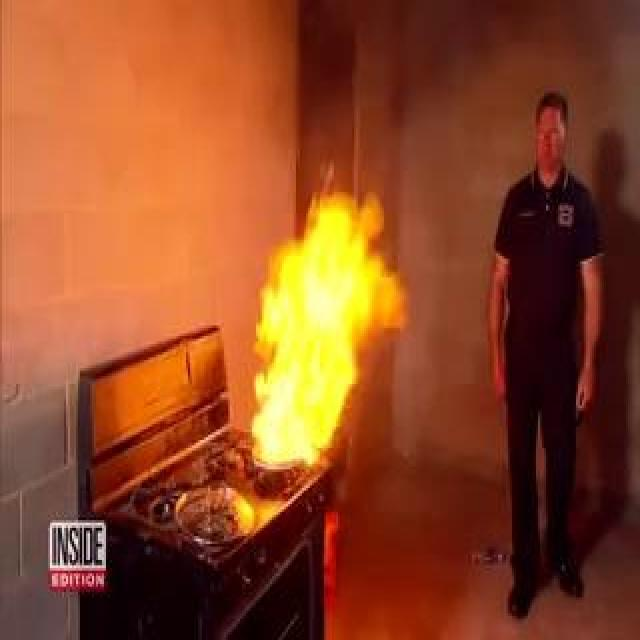Fire: (250, 126, 430, 470)
